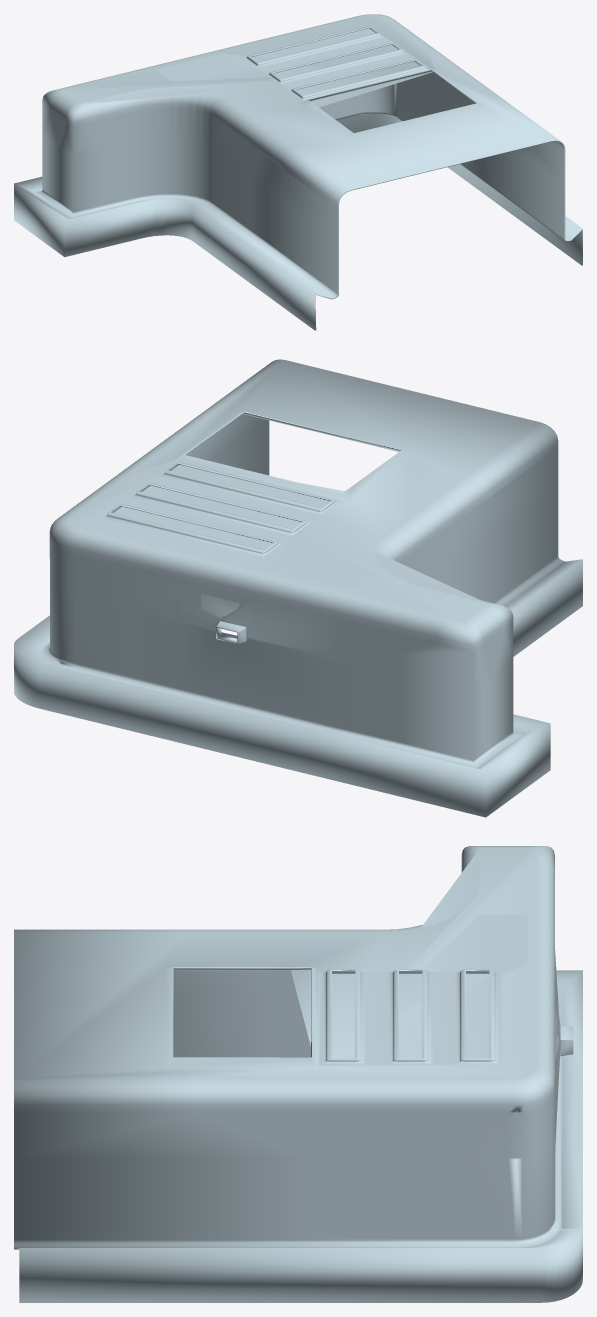
Rendered from batimenttoit.fbx.
3 views of the same model, one above another, from view 1: azimuth 30°, elevation 25°; view 2: azimuth 150°, elevation 25°; view 3: azimuth 270°, elevation 25° (orthographic). The views are drawn at different scales.
Parts seen in each view (by area): view 1: Plane; view 2: Plane; view 3: Plane.
Boxes of the visible parts, box(x1,y1,x2,y2) form: Plane: box(14, 14, 582, 330); Plane: box(14, 359, 582, 817); Plane: box(14, 846, 582, 1302).
Bounding box in the file's own units: 16365 × 5666 × 14177.
